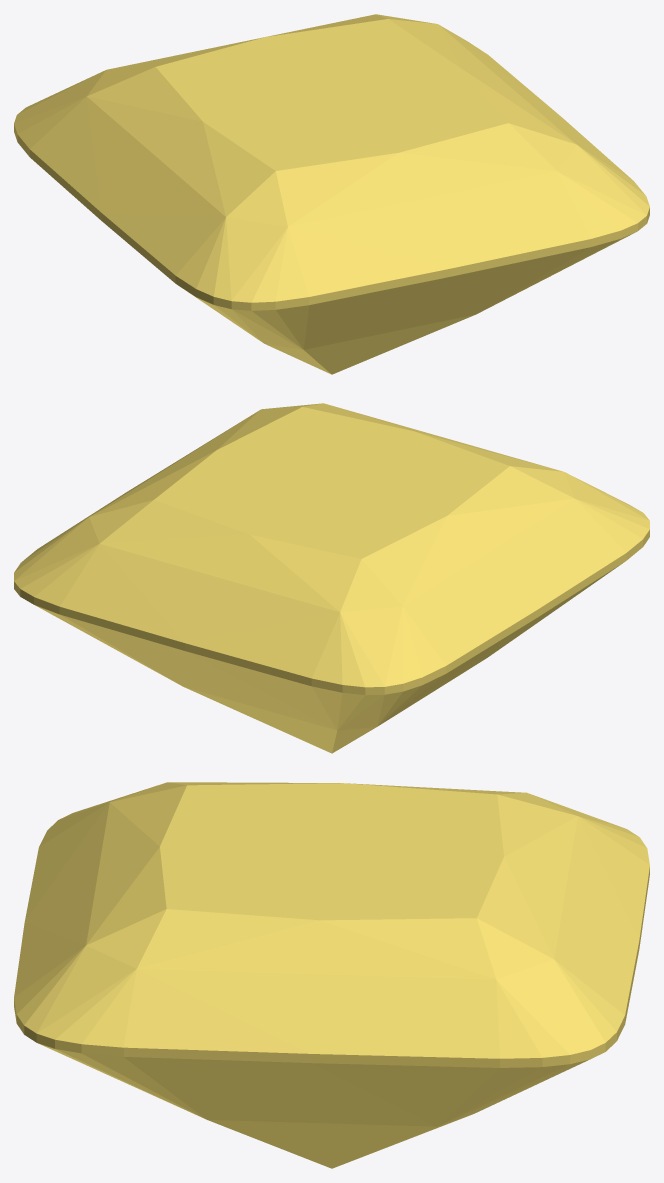
Rendered from stone-fancy-color-diamond.glb.
3 views of the same model, one above another, from view 1: azimuth 30°, elevation 25°; view 2: azimuth 150°, elevation 25°; view 3: azimuth 270°, elevation 25° (orthographic). The views are drawn at different scales.
Parts seen in each view (by area): view 1: Gemstone Fancy Color Diamond; view 2: Gemstone Fancy Color Diamond; view 3: Gemstone Fancy Color Diamond.
Boxes of the visible parts, x1,y1,x2,y2 form: Gemstone Fancy Color Diamond: (14,14,649,374); Gemstone Fancy Color Diamond: (14,403,649,753); Gemstone Fancy Color Diamond: (14,782,649,1168).
Bounding box in the file's own units: 2.07 × 1.2 × 2.19.
